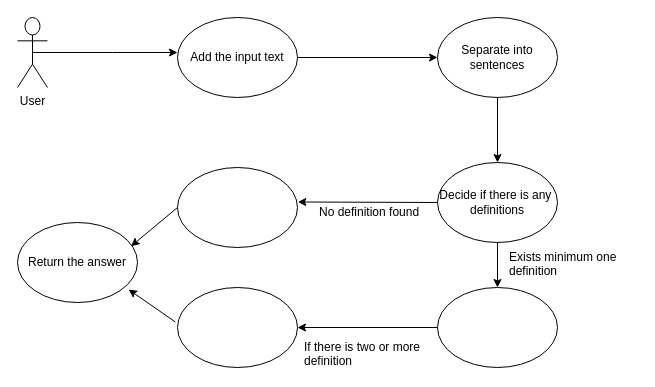
The diagram is 655 pixels wide and 387 high, and some of its shapes have lost their labels. The box of each missing label's shape, as (x1, y1, x2, y2) in pixels:
Make association between definition: (176, 286, 298, 368)
Tag every deinition: (436, 286, 558, 368)
There is no definition in text: (176, 166, 298, 248)
